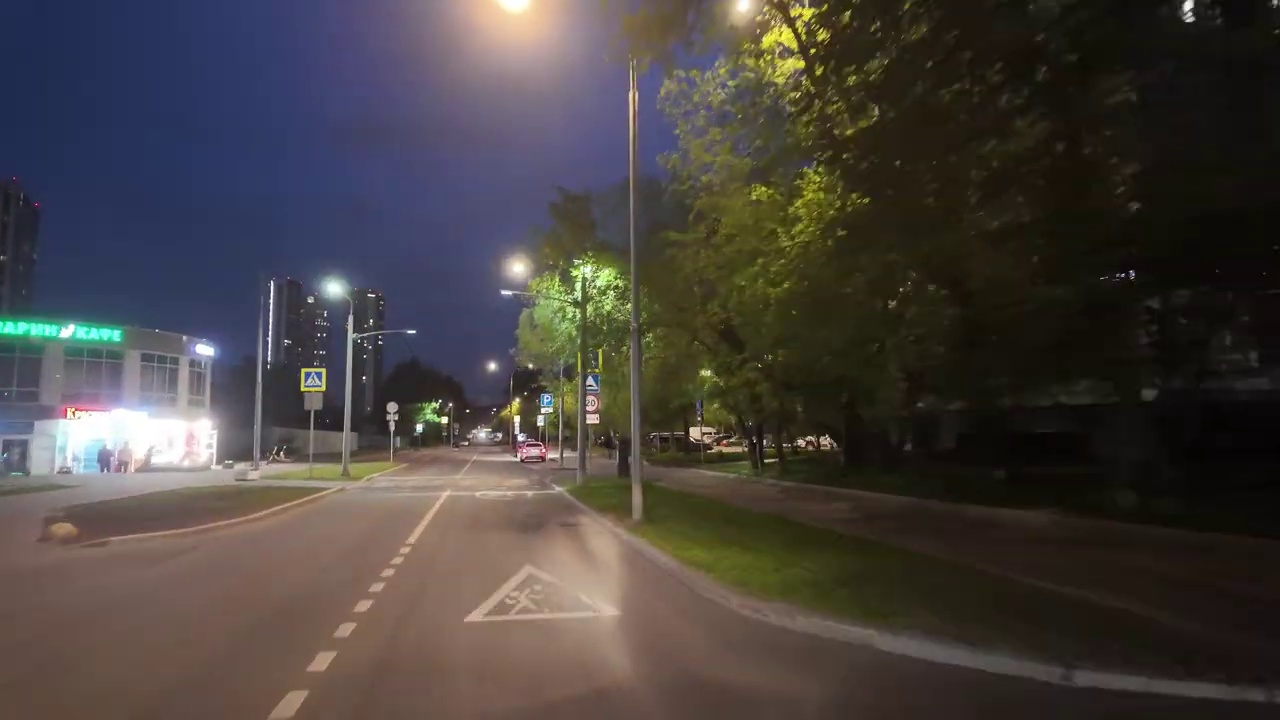acesa: (482, 0, 545, 31), (501, 252, 534, 284), (320, 274, 351, 302), (481, 357, 502, 377)
